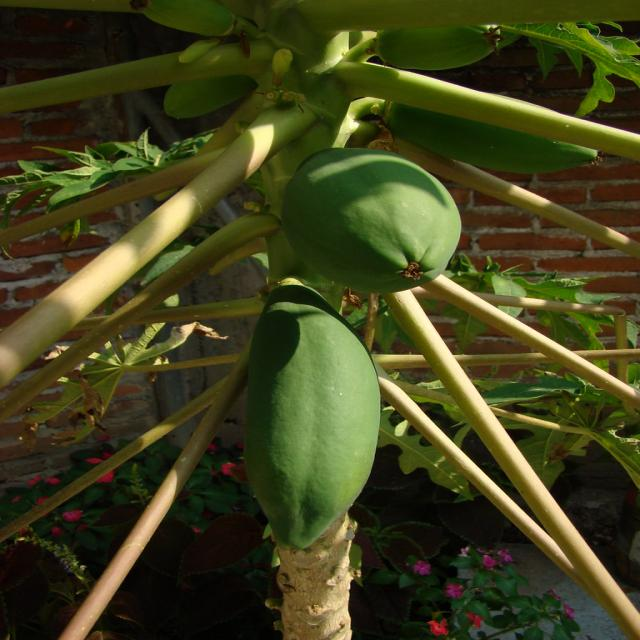Pepaya unrippen: (230, 298, 387, 550), (287, 148, 465, 296)
